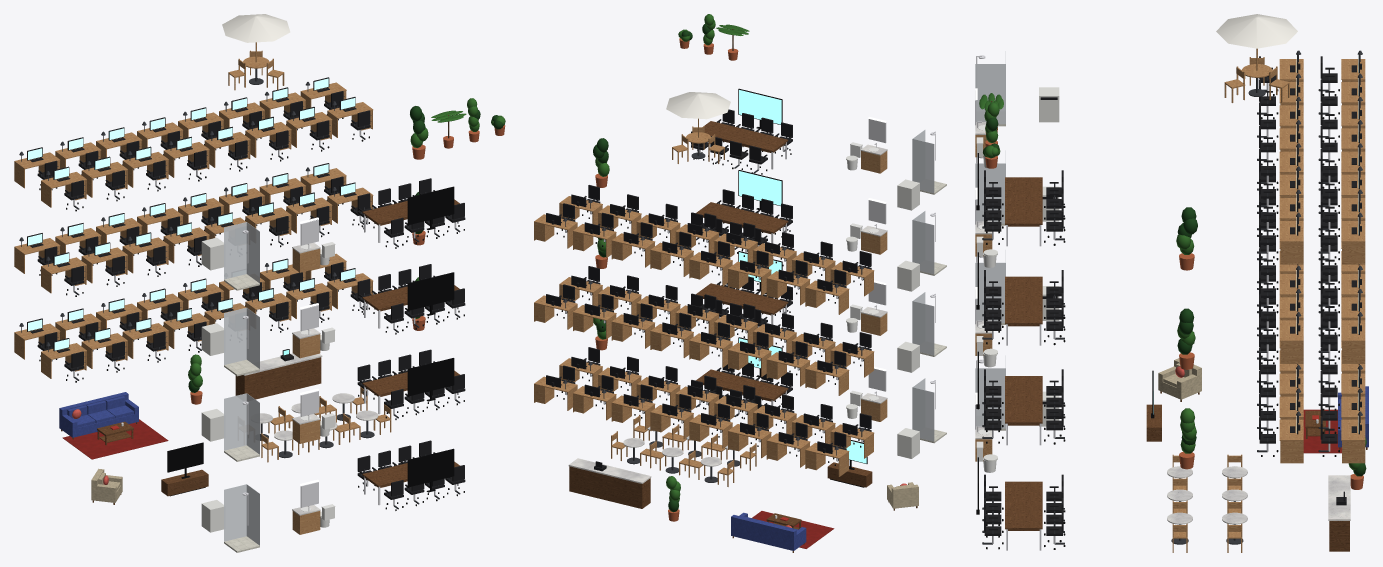
The model's file is i_cowork_hub.gltf.
3 renders of one model, left to right at view 1: azimuth 30°, elevation 25°; view 2: azimuth 150°, elevation 25°; view 3: azimuth 270°, elevation 25°, orthographic. The views are drawn at different scales.
Visible parts, largest first — view 1: I_cowork_hub; view 2: I_cowork_hub; view 3: I_cowork_hub.
Part boxes in pixels (x1=…): I_cowork_hub: x1=14, y1=14, x2=505, y2=552; I_cowork_hub: x1=534, y1=14, x2=946, y2=552; I_cowork_hub: x1=975, y1=14, x2=1368, y2=552.
Bounding box in the file's own units: 13.27 × 15.45 × 11.49.
Materials: 26 (9 with a texture image).
